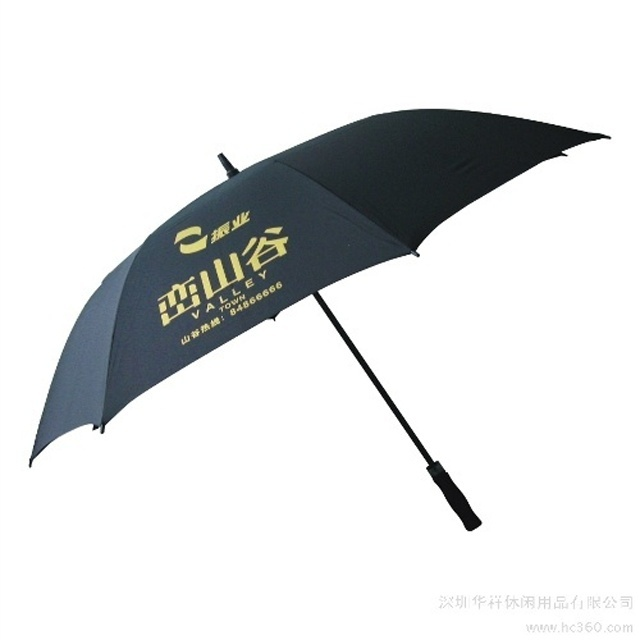umbrella: (23, 103, 618, 540)
